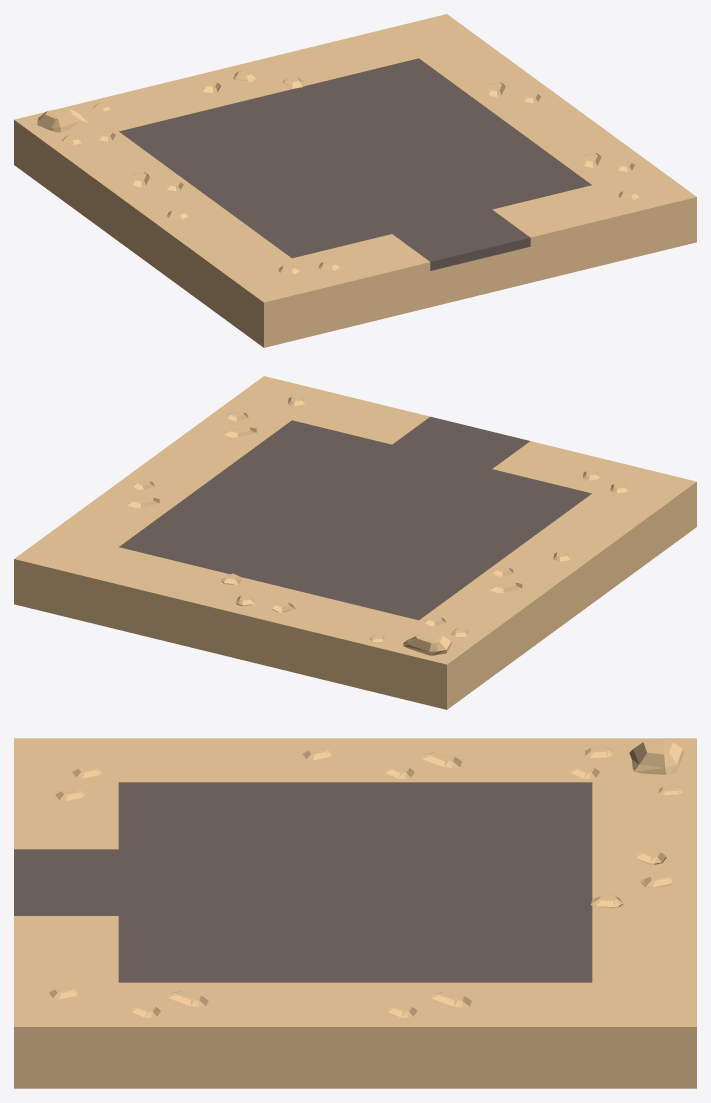
3 renders of one model, top to bottom at view 1: azimuth 30°, elevation 25°; view 2: azimuth 150°, elevation 25°; view 3: azimuth 270°, elevation 25°, orthographic. The views are drawn at different scales.
Visible parts, largest first — view 1: Base; view 2: Base; view 3: Base.
Boxes of the visible parts, x1,y1,x2,y2 form: Base: (14, 14, 696, 347); Base: (14, 376, 696, 709); Base: (14, 738, 696, 1088).
Size of the model in its own units: 10000 by 1205 by 10000.
